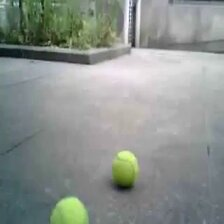tennis: (49, 196, 88, 224), (112, 150, 138, 186)
